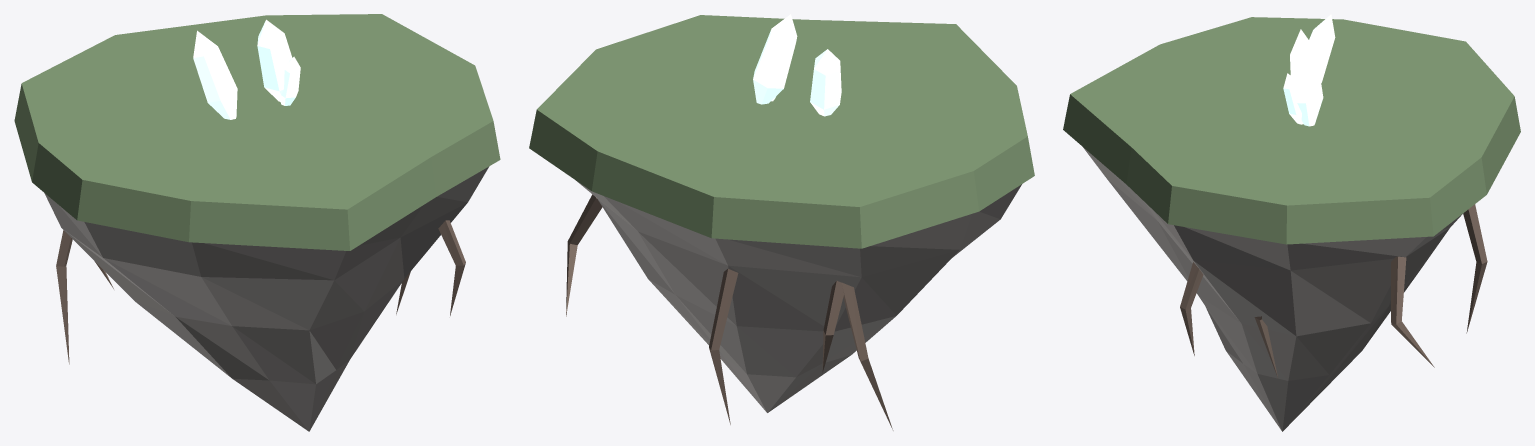
Rendered from Island_Small.glb.
The picture shows the model from 3 angles, left to right: view 1: azimuth 30°, elevation 25°; view 2: azimuth 150°, elevation 25°; view 3: azimuth 270°, elevation 25°; orthographic projection. The views are drawn at different scales.
Visible parts, largest first — view 1: Grass, Rock, Crystal, Roots; view 2: Grass, Rock, Roots, Crystal; view 3: Grass, Rock, Roots, Crystal.
Part boxes in pixels (left/top/right/bottom): Grass: left=14, top=14, right=500, bottom=250; Rock: left=44, top=166, right=489, bottom=431; Crystal: left=193, top=19, right=300, bottom=119; Roots: left=56, top=220, right=465, bottom=364; Grass: left=529, top=15, right=1034, bottom=248; Rock: left=575, top=180, right=1021, bottom=412; Roots: left=566, top=194, right=893, bottom=430; Crystal: left=753, top=14, right=841, bottom=116; Grass: left=1063, top=17, right=1520, bottom=244; Rock: left=1083, top=147, right=1462, bottom=431; Roots: left=1180, top=204, right=1487, bottom=378; Crystal: left=1283, top=14, right=1335, bottom=126.
Size of the model in its own units: 14.4 by 13.42 by 14.36.
